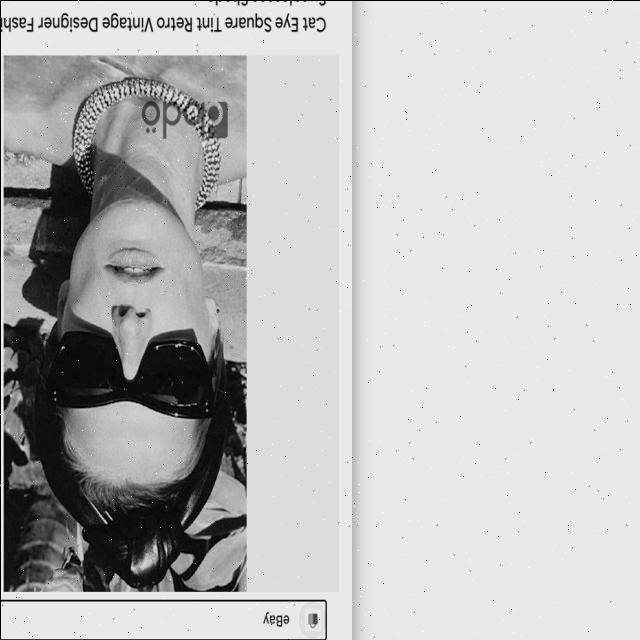face_no_mask: (45, 195, 220, 486)
